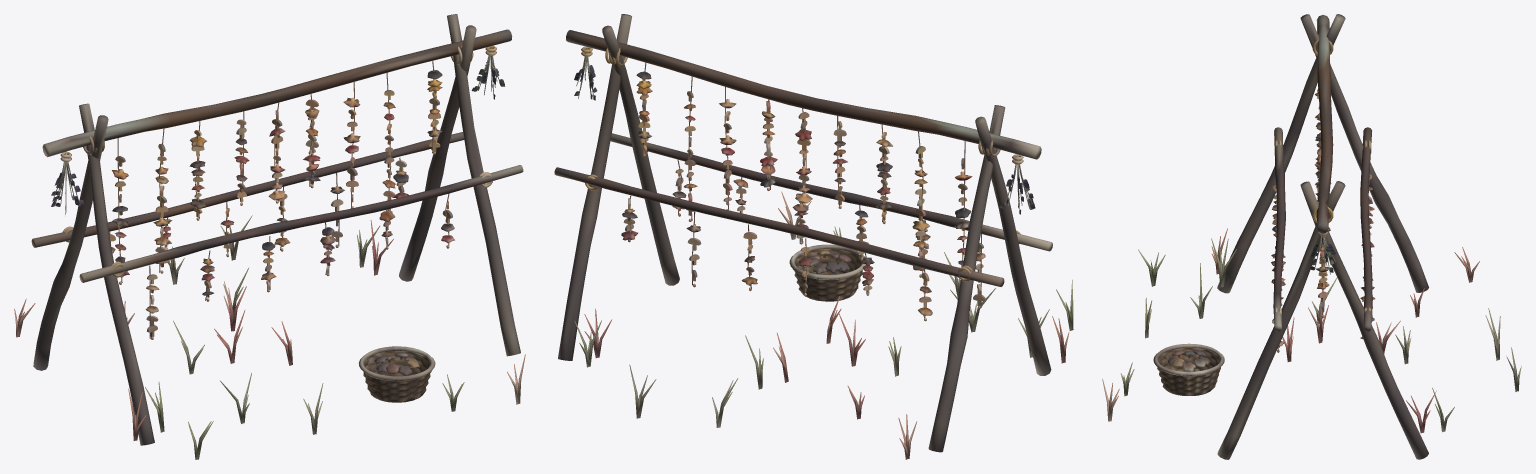
Rendered from kurutma_cerceve.glb.
The picture shows the model from 3 angles, left to right: view 1: azimuth 30°, elevation 25°; view 2: azimuth 150°, elevation 25°; view 3: azimuth 270°, elevation 25°; orthographic projection. The views are drawn at different scales.
Visible parts, largest first — view 1: kurutma_cerceve_LOD0; view 2: kurutma_cerceve_LOD0; view 3: kurutma_cerceve_LOD0.
Part boxes in pixels (box(x1,y1,x2,y2)): kurutma_cerceve_LOD0: box(14, 14, 525, 459); kurutma_cerceve_LOD0: box(554, 14, 1073, 459); kurutma_cerceve_LOD0: box(1102, 14, 1521, 459).
Size of what is drawn, in the model's own units: 3.9 by 2.4 by 3.29.
